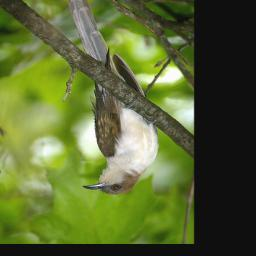Cuckoo: (66, 0, 161, 196)
